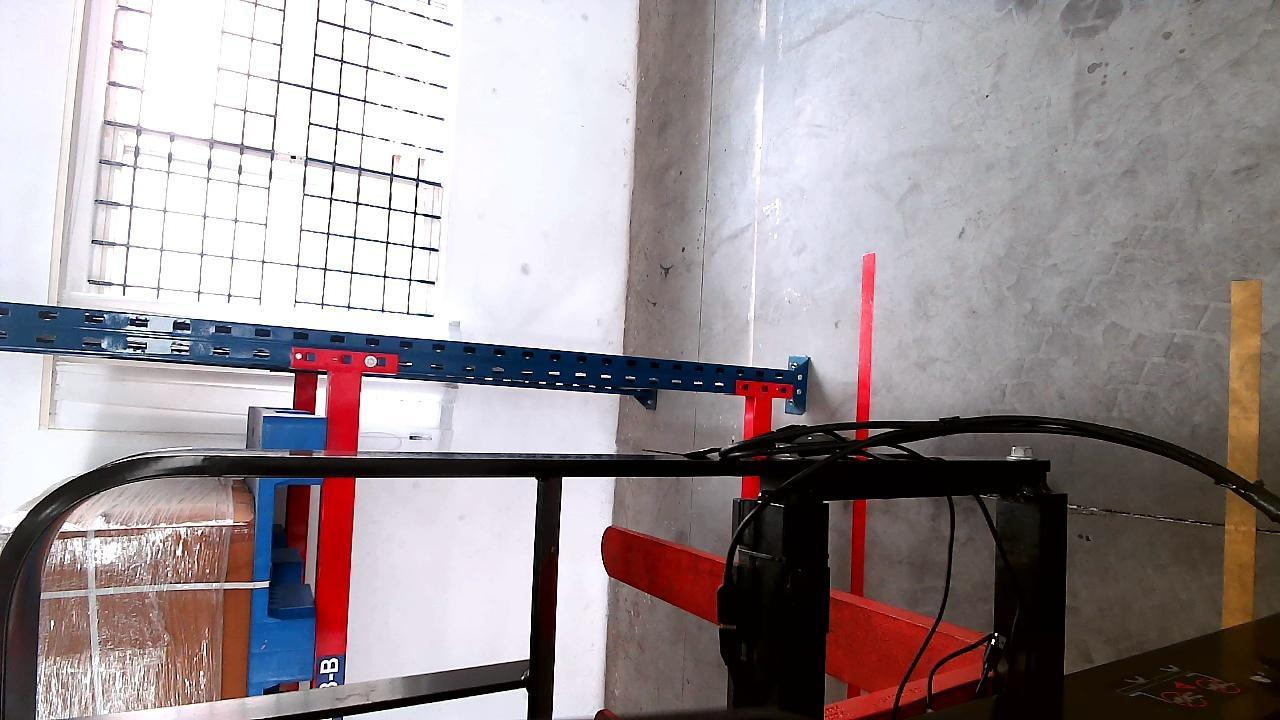red_line: (850, 253, 878, 596)
yellow_line: (1226, 281, 1262, 637)
